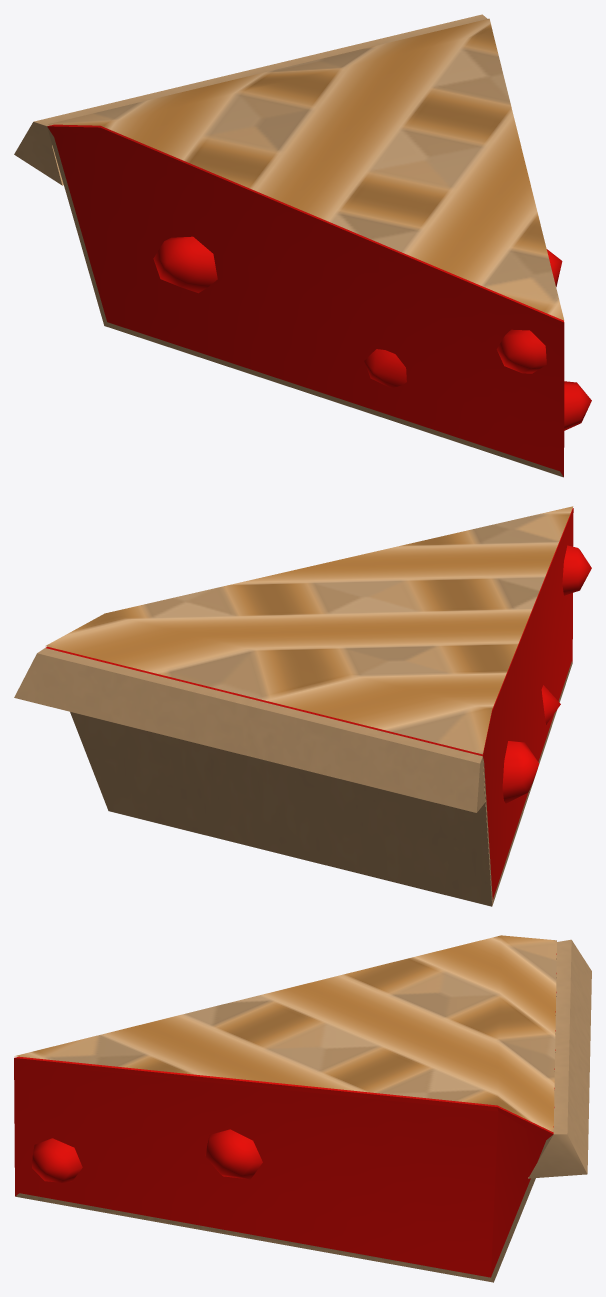
File: Slice_Of_Pie_B_1.FBX
3 views of the same model, one above another, from view 1: azimuth 30°, elevation 25°; view 2: azimuth 150°, elevation 25°; view 3: azimuth 270°, elevation 25° (orthographic). The views are drawn at different scales.
Parts seen in each view (by area): view 1: Slice_Of_PieB; view 2: Slice_Of_PieB; view 3: Slice_Of_PieB.
Part boxes in pixels (x1=…): Slice_Of_PieB: x1=14, y1=14, x2=591, y2=477; Slice_Of_PieB: x1=14, y1=506, x2=591, y2=906; Slice_Of_PieB: x1=14, y1=935, x2=591, y2=1282.
Size of the model in its own units: 44.51 by 18.17 by 53.51.
